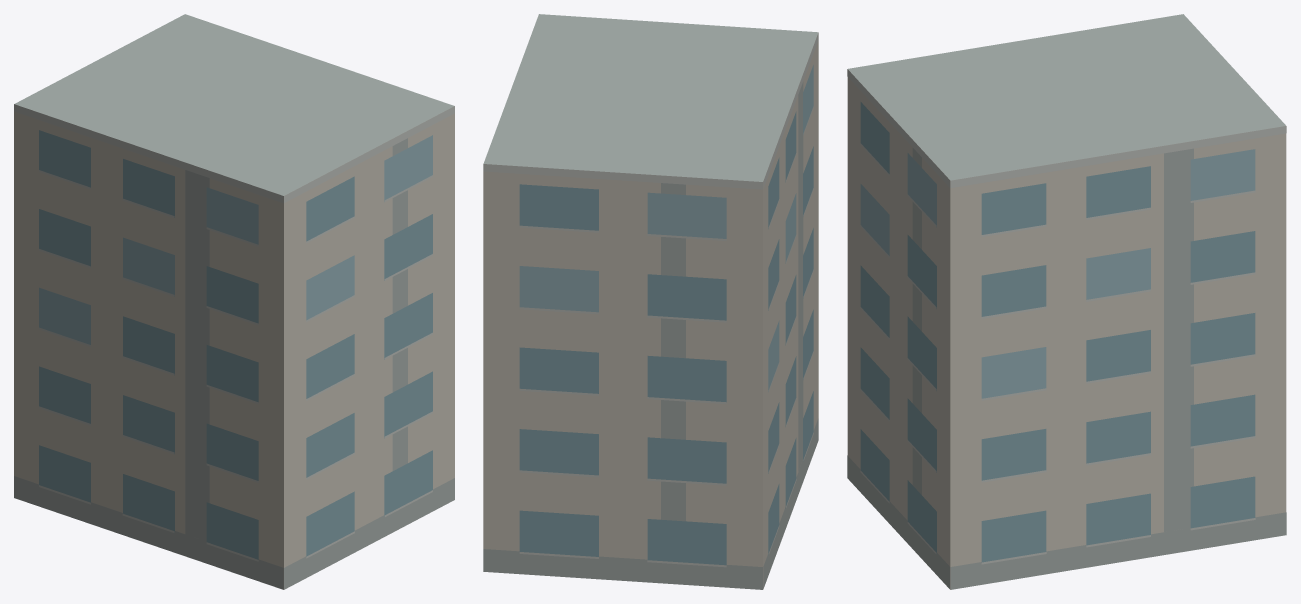
Rendered from survey-upis-32984533.glb.
3 views of the same model, side by side, from view 1: azimuth 30°, elevation 25°; view 2: azimuth 150°, elevation 25°; view 3: azimuth 270°, elevation 25° (orthographic). The views are drawn at different scales.
Visible parts, largest first — view 1: survey-upis-32984533.tmp; view 2: survey-upis-32984533.tmp; view 3: survey-upis-32984533.tmp.
Part boxes in pixels (left/top/right/bottom): survey-upis-32984533.tmp: left=14, top=14, right=454, bottom=589; survey-upis-32984533.tmp: left=483, top=14, right=818, bottom=589; survey-upis-32984533.tmp: left=847, top=14, right=1286, bottom=589.
Size of the model in its own units: 11.45 by 13.1 by 12.75.
